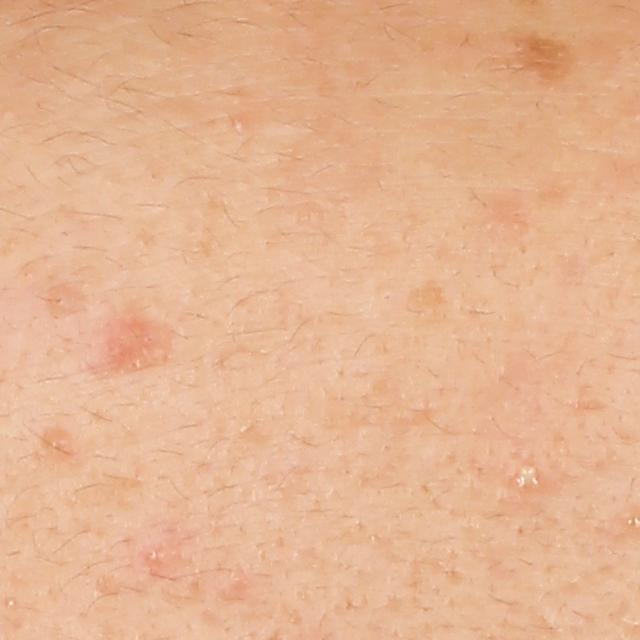comedo: (231, 115, 248, 133)
pustule: (509, 455, 551, 493)
